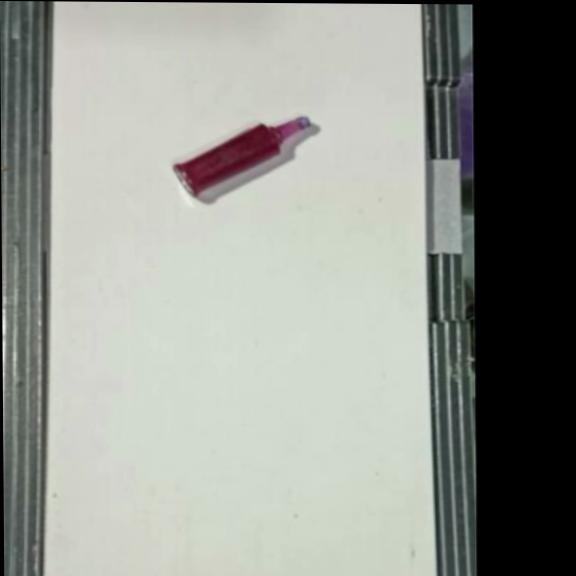Plastik: (171, 113, 311, 199)
